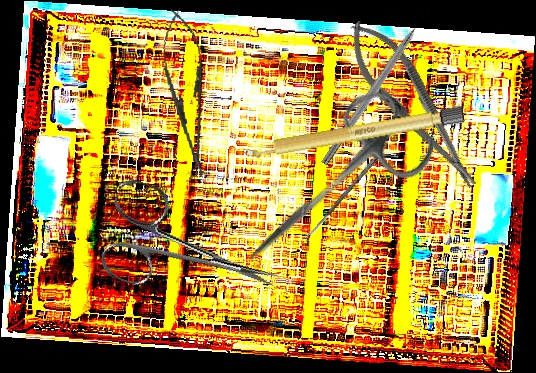Hook Surgical: (320, 7, 433, 168)
Iris Scissors: (219, 80, 443, 298), (91, 175, 293, 327)
Needle Holder: (334, 10, 492, 201), (155, 6, 219, 182)
Scalpel Handle: (241, 104, 465, 162)
Surgical Spoon: (302, 150, 383, 243)
